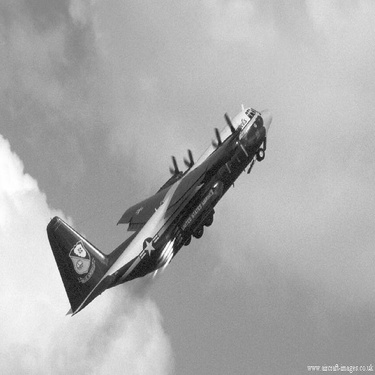airplane: (32, 87, 283, 331)
